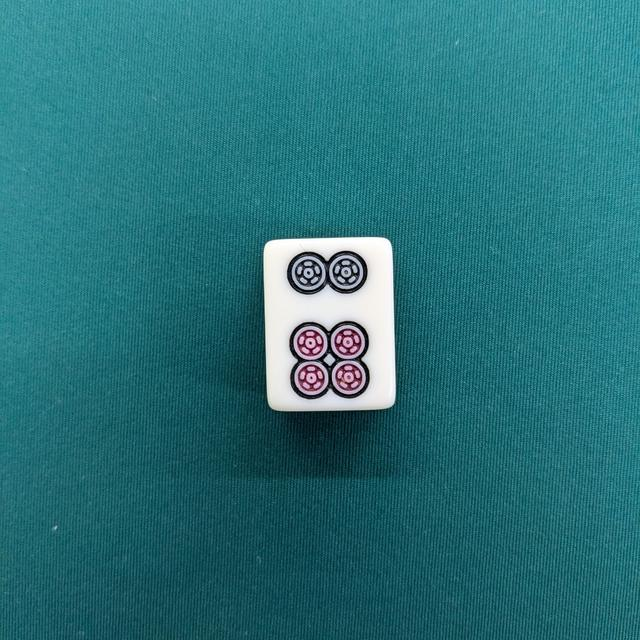6p: (260, 238, 396, 413)
